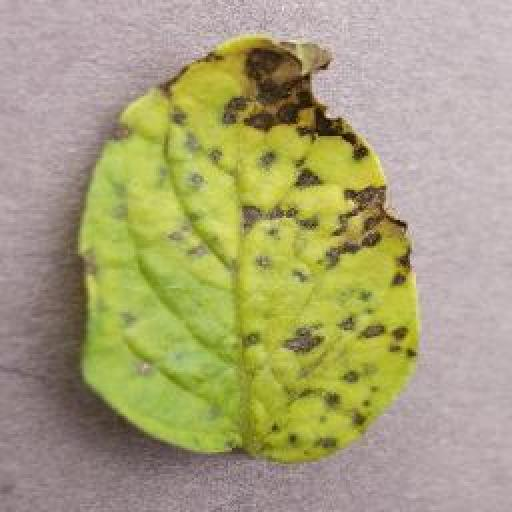Septoria: (74, 34, 419, 466)
